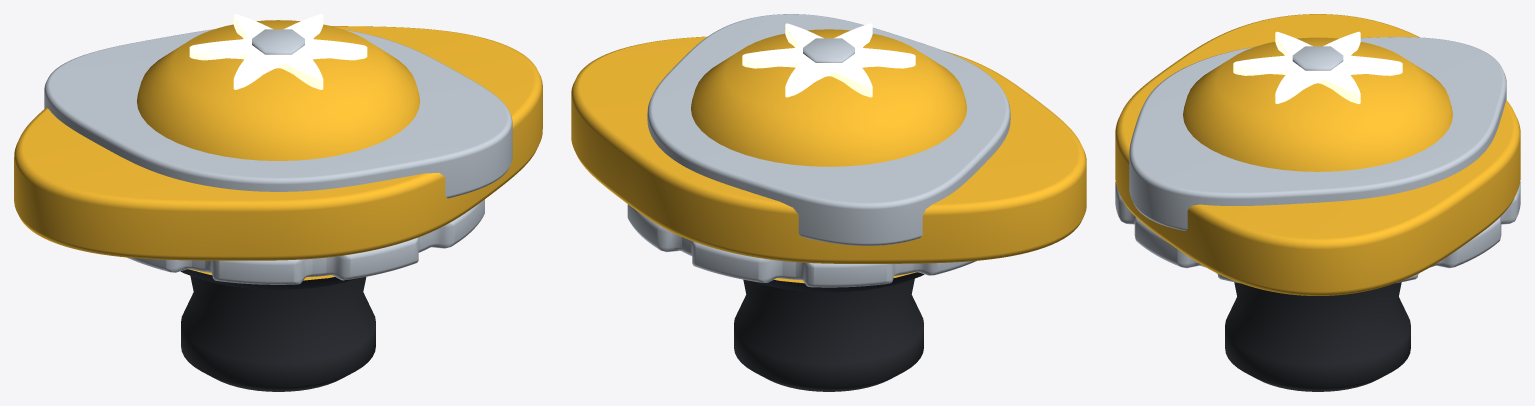
Rendered from top_3.glb.
The picture shows the model from 3 angles, left to right: view 1: azimuth 30°, elevation 25°; view 2: azimuth 150°, elevation 25°; view 3: azimuth 270°, elevation 25°; orthographic projection. The views are drawn at different scales.
Parts seen in each view (by area): view 1: Quake Ring, Quake Blades, Quake Cap, Quake Tip, Quake Disc, Quake Emblem, Quake Bolt, Quake Driver; view 2: Quake Ring, Quake Blades, Quake Cap, Quake Tip, Quake Disc, Quake Emblem, Quake Bolt, Quake Driver; view 3: Quake Ring, Quake Blades, Quake Cap, Quake Tip, Quake Emblem, Quake Disc, Quake Bolt.
Part boxes in pixels (x1=…): Quake Ring: x1=14, y1=26, x2=542, y2=260; Quake Blades: x1=44, y1=29, x2=512, y2=198; Quake Cap: x1=137, y1=20, x2=419, y2=160; Quake Tip: x1=181, y1=276, x2=375, y2=391; Quake Disc: x1=126, y1=199, x2=484, y2=284; Quake Emblem: x1=189, y1=14, x2=367, y2=89; Quake Bolt: x1=252, y1=29, x2=304, y2=54; Quake Driver: x1=180, y1=269, x2=359, y2=289; Quake Ring: x1=571, y1=36, x2=1086, y2=263; Quake Blades: x1=647, y1=14, x2=1010, y2=245; Quake Cap: x1=691, y1=29, x2=966, y2=166; Quake Tip: x1=734, y1=278, x2=923, y2=391; Quake Disc: x1=627, y1=204, x2=976, y2=287; Quake Emblem: x1=742, y1=23, x2=915, y2=97; Quake Bolt: x1=803, y1=38, x2=854, y2=62; Quake Driver: x1=749, y1=272, x2=924, y2=292; Quake Ring: x1=1115, y1=14, x2=1520, y2=295; Quake Blades: x1=1129, y1=37, x2=1506, y2=230; Quake Cap: x1=1183, y1=37, x2=1452, y2=171; Quake Tip: x1=1225, y1=282, x2=1410, y2=391; Quake Emblem: x1=1233, y1=31, x2=1402, y2=103; Quake Disc: x1=1115, y1=182, x2=1520, y2=283; Quake Bolt: x1=1292, y1=46, x2=1343, y2=70.
Bounding box in the file's own units: 1.3 × 0.795 × 0.96.
